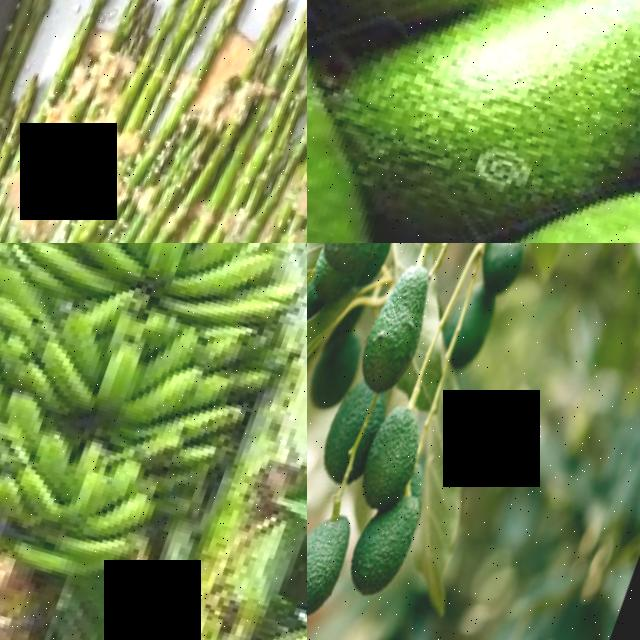asparagus: (195, 0, 267, 88), (237, 0, 300, 86), (0, 79, 42, 203), (262, 0, 307, 105), (13, 0, 89, 57), (64, 0, 141, 42), (117, 0, 179, 51)
avocado: (314, 0, 640, 243), (307, 0, 503, 243), (425, 53, 640, 243), (348, 254, 449, 407), (336, 484, 431, 620), (307, 376, 395, 502), (350, 402, 438, 519), (307, 503, 362, 640), (437, 295, 507, 386), (312, 243, 421, 300), (307, 330, 367, 426), (467, 243, 548, 309)
